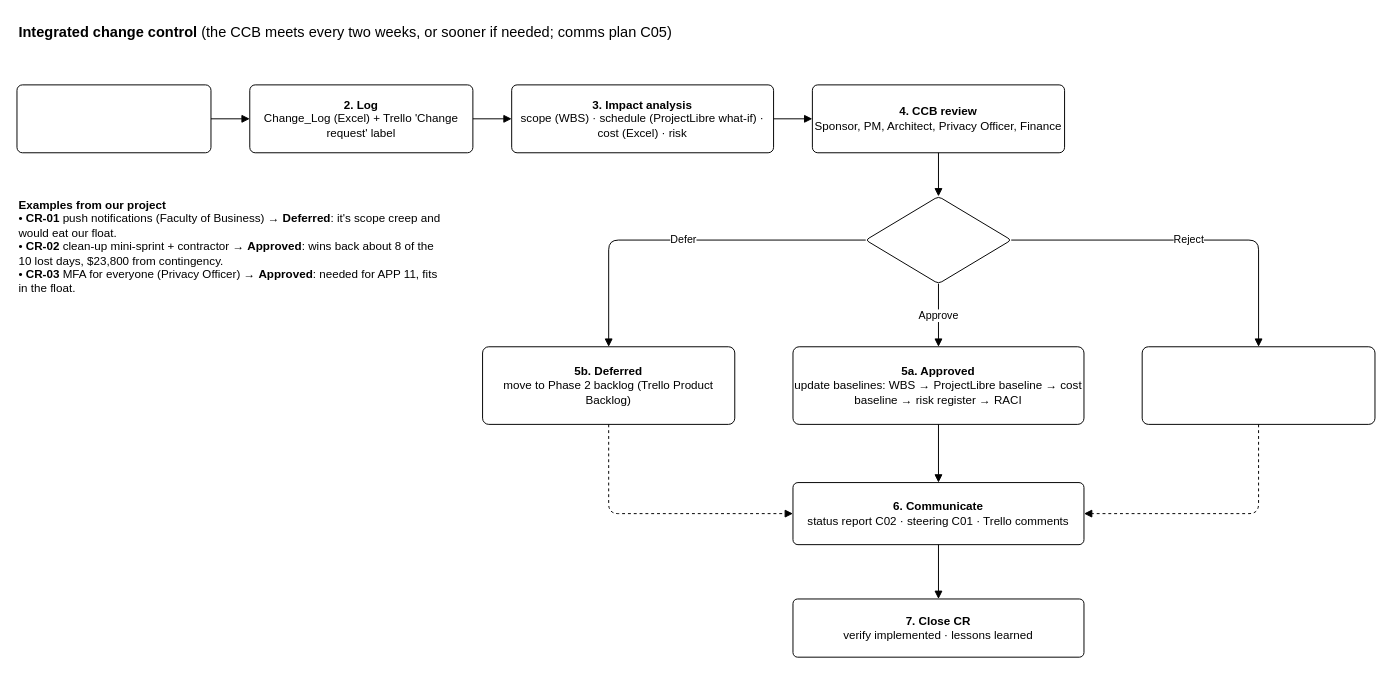
This 1392x674 diagram has some shape labels left out. The centre of each missing label's shape, as x and y in pixels:
1. CR raised any stakeholder · CR form: the point at 113,118
5c. Rejected requester told with rationale: the point at 1258,385
Decision?: the point at 938,239
